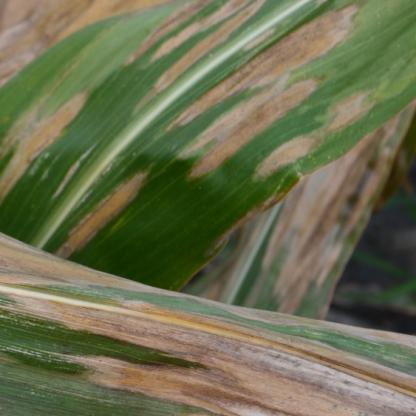corn leaf blight: (1, 1, 415, 249), (1, 238, 415, 415)
